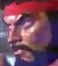ryu: (1, 0, 53, 64)
